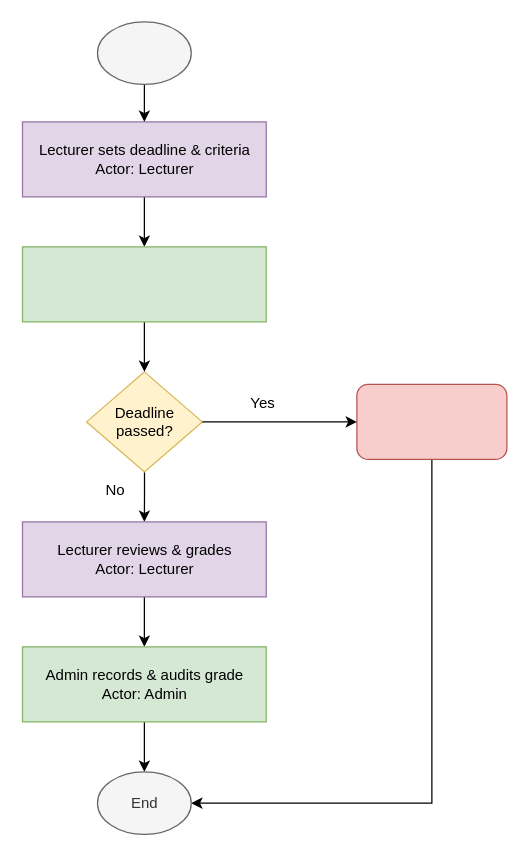
Image size: 529x856. Some labels were removed from this diagram. The shapes that lost their labels are listed below. From the top down, each one's centre as x and y in pixels, then its label:
At pixel 143 52: "Start".
At pixel 143 284: "Student submits assignment Actor: Student".
At pixel 431 421: "Reject Submission".
